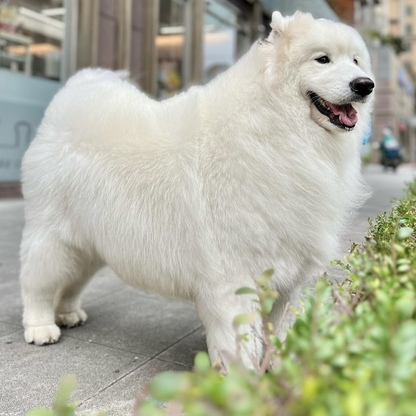samoyed: (16, 5, 381, 375)
